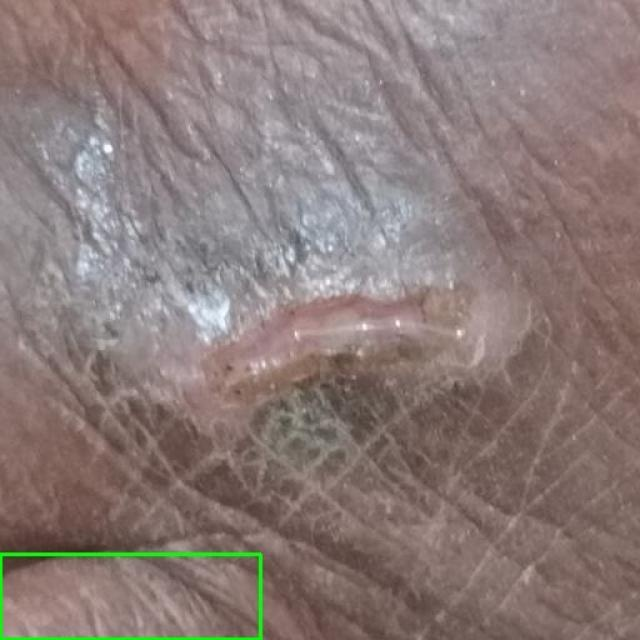Eczema: (0, 554, 261, 639)
